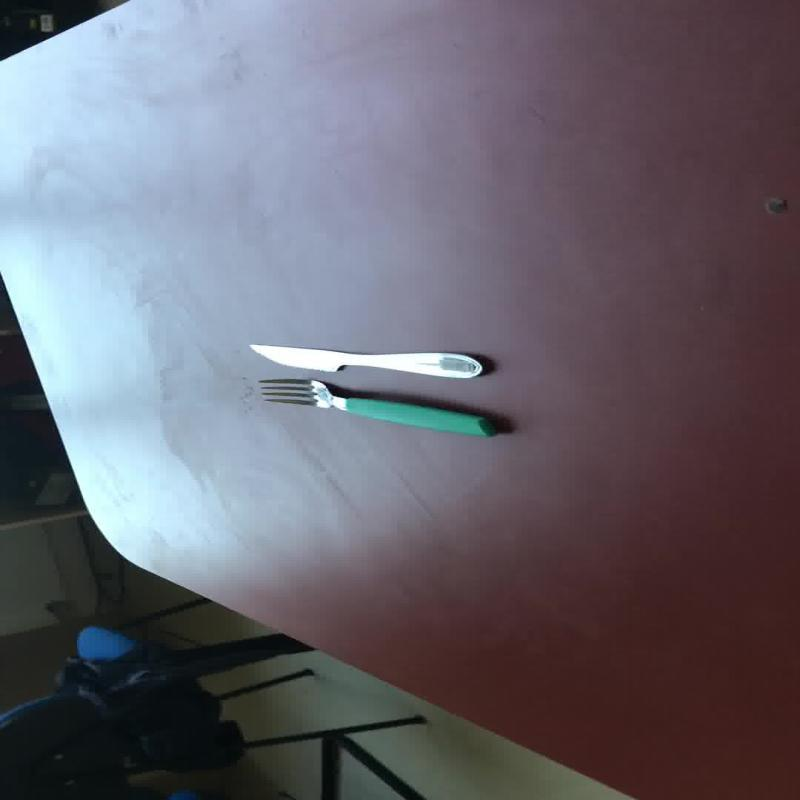fork: (257, 377, 496, 437)
knife: (246, 342, 483, 378)
